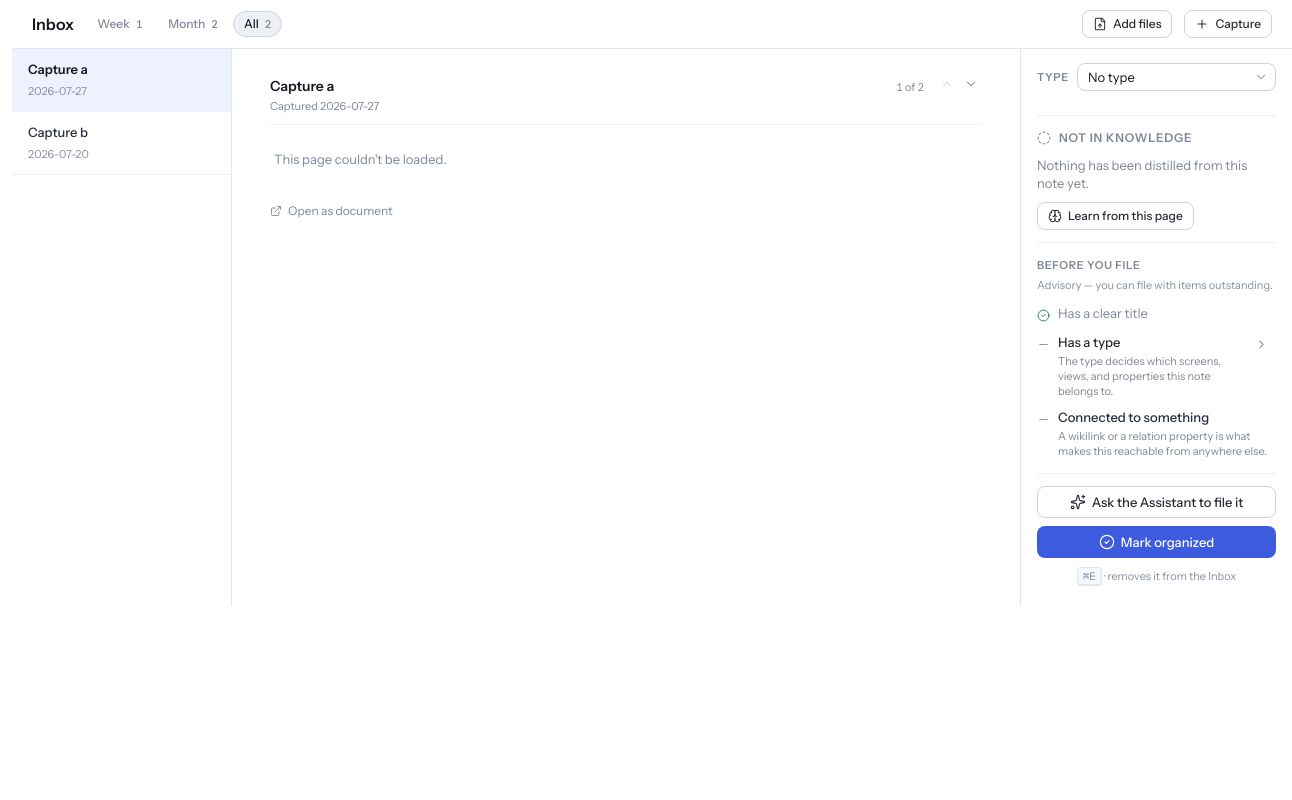
InboxPage › drops held notes when the period changes, so the pill and the list agree
The width and height of the screenshot is (1292, 800).
// Open the older capture under "All" — that pins it.
Click the option with test id "inbox-row" at (122, 144), box [12, 112, 231, 175]
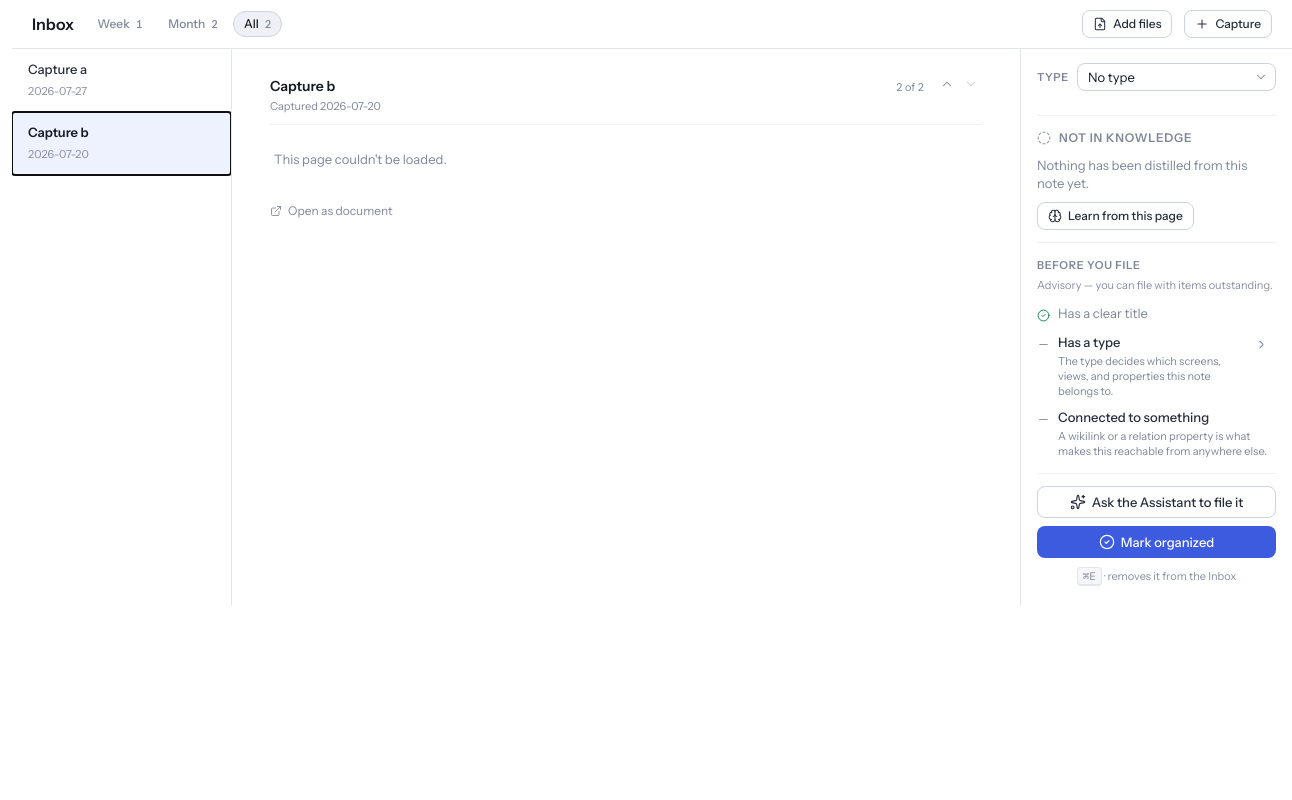
Click the tab "Week 1" at (120, 24), box [86, 11, 153, 37]
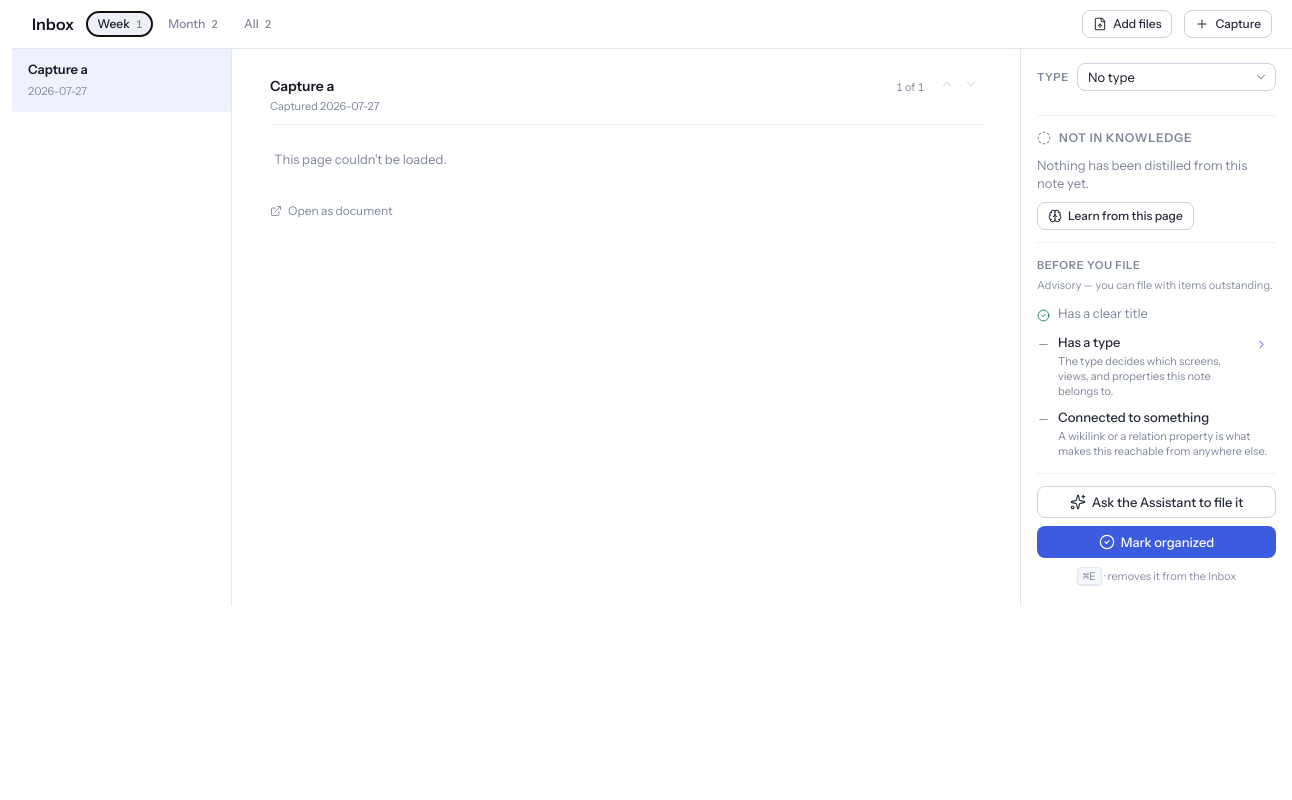
Expected: the option with test id "inbox-row" shows "Capture a", [12, 49, 231, 112]
Now the number of options with test id "inbox-row" is 1, box [12, 49, 231, 112]
